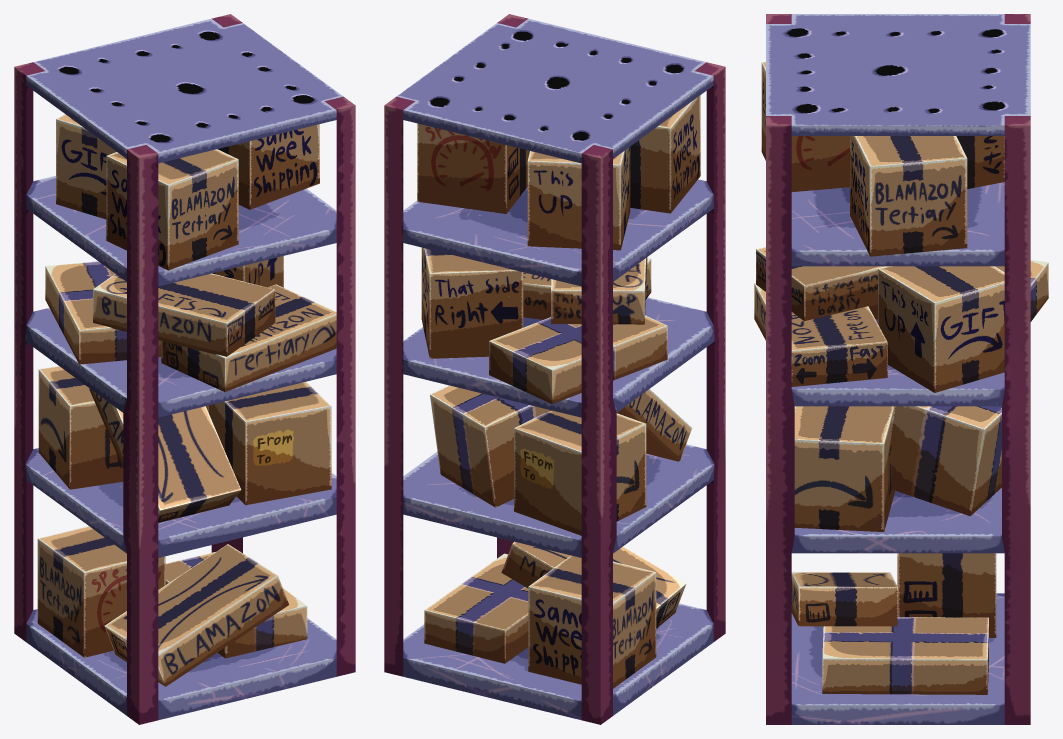
File: Sample Decorated Shelf.fbx
3 views of the same model, side by side, from view 1: azimuth 30°, elevation 25°; view 2: azimuth 150°, elevation 25°; view 3: azimuth 270°, elevation 25° (orthographic). The views are drawn at different scales.
Parts seen in each view (by area): view 1: Box001; view 2: Box001; view 3: Box001.
Boxes of the visible parts, left/top/right/bottom form: Box001: left=14, top=14, right=355, bottom=724; Box001: left=384, top=14, right=725, bottom=724; Box001: left=754, top=14, right=1048, bottom=724.
Size of the model in its own units: 84.41 by 87.64 by 197.
14 materials, 14 textured.
